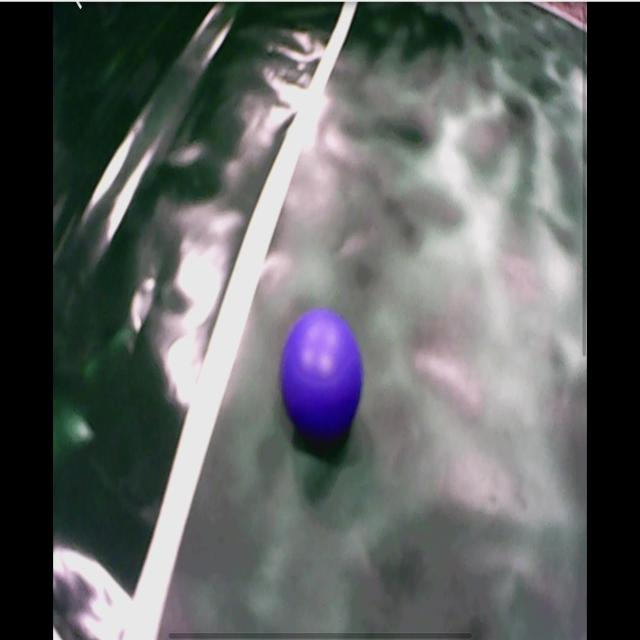ball: (282, 311, 364, 440)
